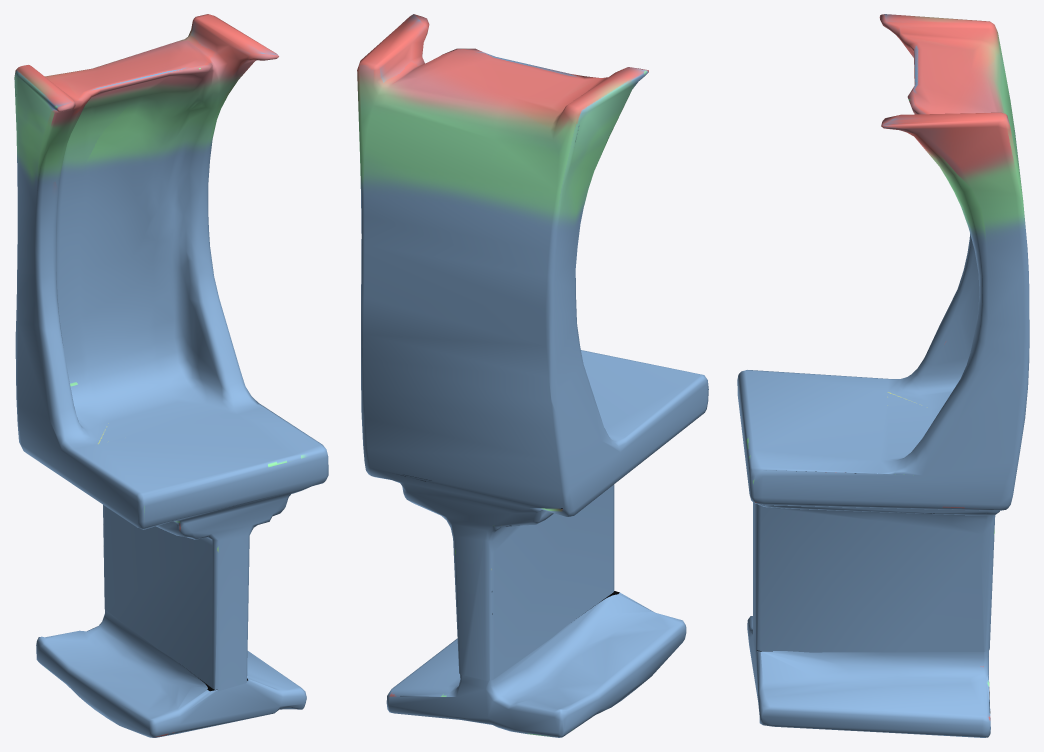
File: dddffa.glb
3 views of the same model, side by side, from view 1: azimuth 30°, elevation 25°; view 2: azimuth 150°, elevation 25°; view 3: azimuth 270°, elevation 25° (orthographic). The views are drawn at different scales.
Parts seen in each view (by area): view 1: material.023, material.021; view 2: material.023, material.021; view 3: material.023, material.021.
Boxes of the visible parts, left/top/right/bottom form: material.023: left=14, top=14, right=328, bottom=691; material.021: left=36, top=610, right=306, bottom=737; material.023: left=357, top=14, right=708, bottom=680; material.021: left=386, top=591, right=686, bottom=737; material.023: left=737, top=14, right=1029, bottom=652; material.021: left=747, top=616, right=990, bottom=737.
Size of the model in its own units: 0.9277 by 2.45 by 1.03.
Materials: 2 (2 with a texture image).
